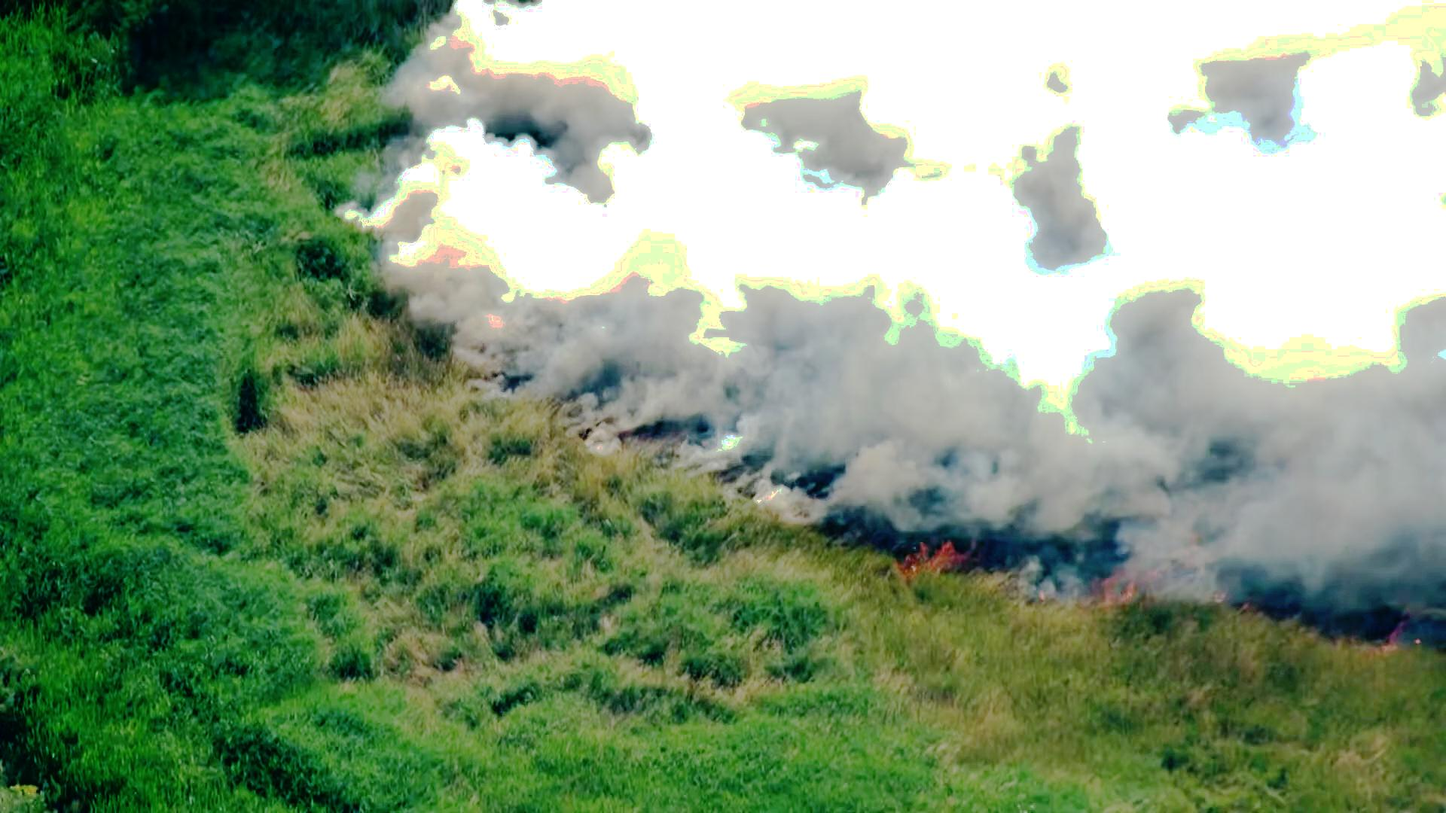smoke: (1139, 333, 1446, 569), (430, 121, 706, 333), (735, 292, 978, 481)
